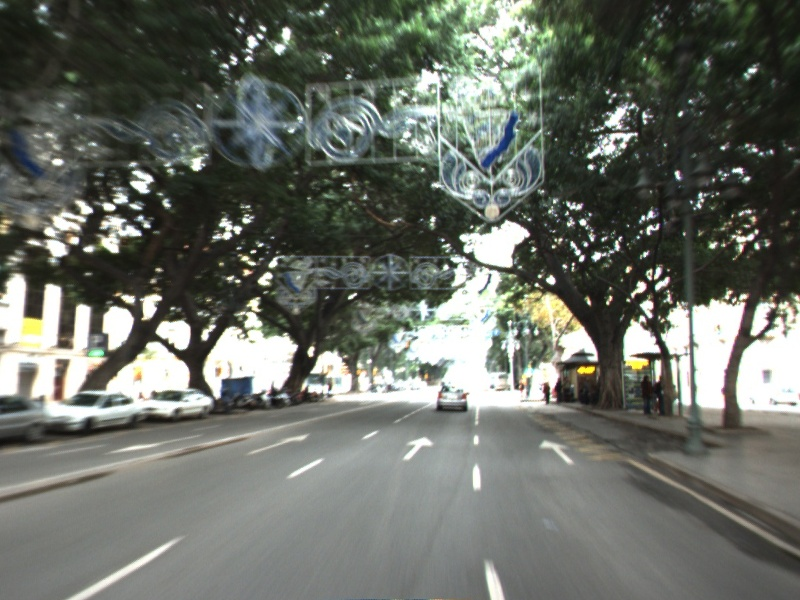STRAIGHT: (245, 431, 313, 457), (536, 437, 579, 467), (399, 435, 436, 462)
